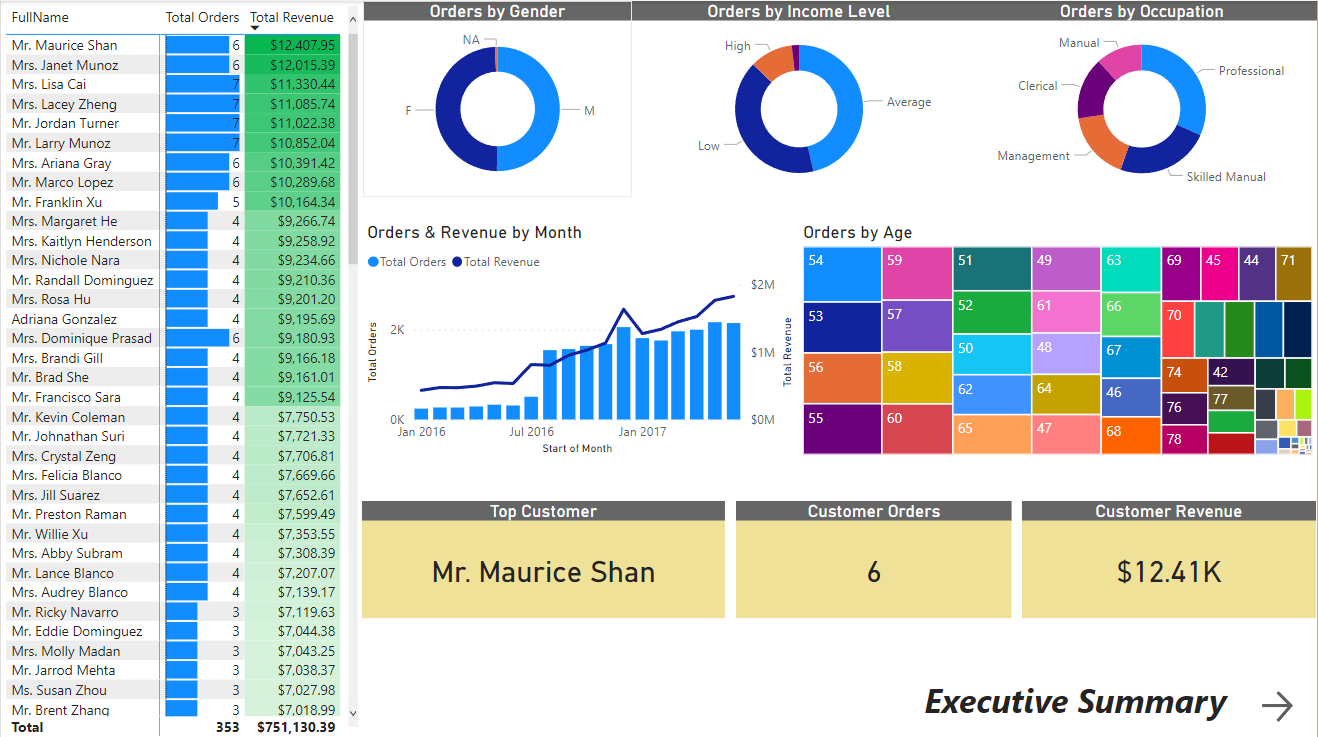

This screenshot's page, from the dashboard's own definition file:
{"tool":"powerbi","page":{"name":"Customer Detail","canvas":[1280,720],"ordinal":2},"visuals":[{"type":"pivotTable","fields":{"Rows":["AW_Customer_Lookup.FullName"],"Values":["AW_Sales.Total Orders","AW_Sales.Total Revenue"]},"box":[0,0,352,720],"z":0},{"type":"donutChart","title":"Orders by Gender","fields":{"Category":["AW_Customer_Lookup.Gender"],"Y":["AW_Sales.Total Orders"]},"box":[352,0,261.6,190.6],"z":1000},{"type":"donutChart","title":"Orders by Income Level","fields":{"Y":["AW_Sales.Total Orders"],"Category":["AW_Customer_Lookup.IncomeLevel"]},"box":[613.6,0,324.5,190.6],"z":2000},{"type":"donutChart","title":"Orders by Occupation","fields":{"Y":["AW_Sales.Total Orders"],"Category":["AW_Customer_Lookup.Occupation"]},"box":[938.1,0,342.3,190.6],"z":3000},{"type":"lineClusteredColumnComboChart","title":"Orders & Revenue by Month","fields":{"Category":["AW_Calendar_Lookup.Start of Month"],"Y":["AW_Sales.Total Orders"],"Y2":["AW_Sales.Total Revenue"]},"box":[351,215,423.8,231.4],"z":4000},{"type":"treemap","title":"Orders by Age","fields":{"Values":["AW_Sales.Total Orders"],"Group":["AW_Customer_Lookup.CurrentAge"]},"box":[774.9,215,504.5,231.4],"z":5000},{"type":"card","title":"Top Customer","fields":{"Values":["AW_Customer_Lookup.FullName"]},"box":[351.1,486.3,353.1,113.8],"z":6000},{"type":"card","title":"Customer Orders","fields":{"Values":["AW_Sales.Total Orders"]},"box":[714.9,486.3,268.4,113.8],"z":7000},{"type":"card","title":"Customer Revenue","fields":{"Values":["AW_Sales.Total Revenue"]},"box":[993.1,486.3,286,113.8],"z":8000},{"type":"textbox","box":[892.9,652.6,327.8,67.1],"z":9000},{"type":"actionButton","box":[1220.7,666.3,59.3,39.9],"z":10000}]}

Visuals, with their boxes in screenshot pixels (x1, y1, x2, y2), scaled from the page's 1280x720 canvas onto the 1318x737 screenshot:
pivotTable - AW_Customer_Lookup.FullName x AW_Sales.Total Orders: bbox(0, 0, 362, 736)
"Orders by Gender" donutChart: bbox(362, 0, 632, 195)
"Orders by Income Level" donutChart: bbox(632, 0, 966, 195)
"Orders by Occupation" donutChart: bbox(966, 0, 1317, 195)
"Orders & Revenue by Month" lineClusteredColumnComboChart: bbox(361, 220, 798, 457)
"Orders by Age" treemap: bbox(798, 220, 1317, 457)
"Top Customer" card: bbox(362, 498, 725, 614)
"Customer Orders" card: bbox(736, 498, 1012, 614)
"Customer Revenue" card: bbox(1023, 498, 1317, 614)
textbox: bbox(919, 668, 1257, 736)
actionButton: bbox(1257, 682, 1317, 723)
